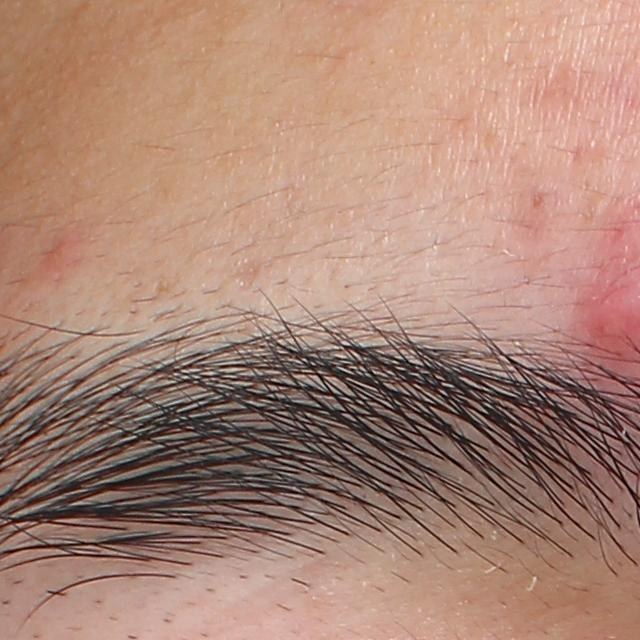atrophic_scar: (236, 257, 261, 294)
comedo: (524, 192, 548, 212)
